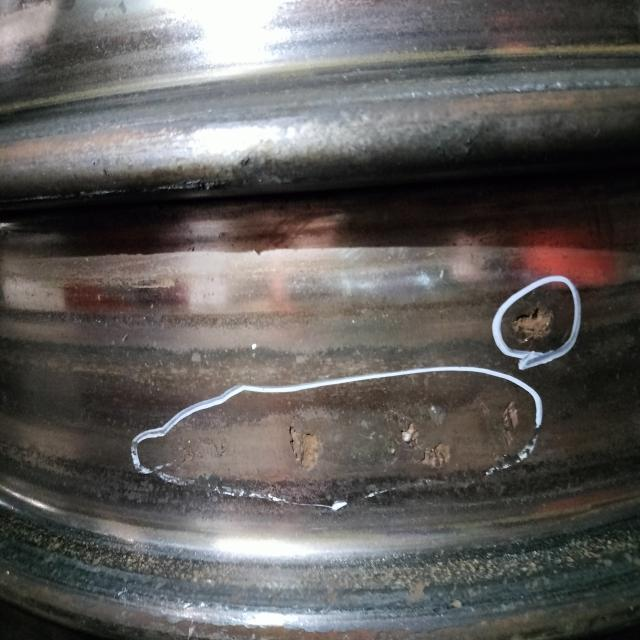Blue hole: (277, 417, 335, 479), (482, 396, 519, 459), (515, 301, 561, 346)
Peeling: (385, 400, 456, 471)
